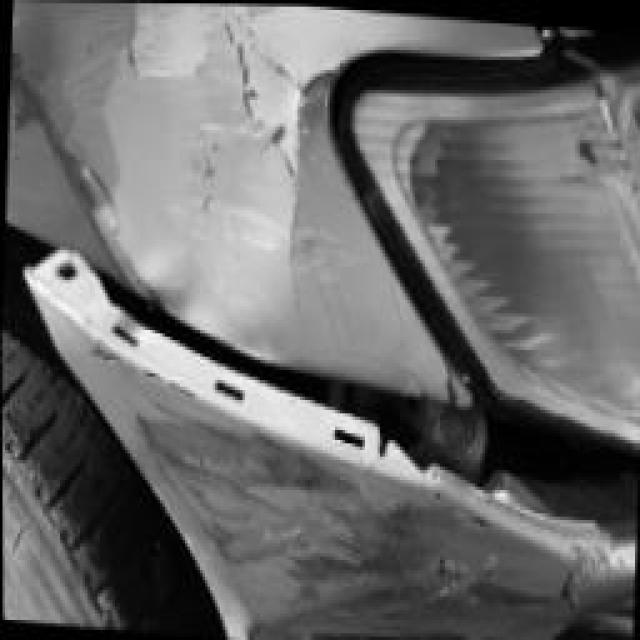Bumper: (5, 243, 639, 640)
Fender: (0, 0, 371, 316)
Light: (400, 47, 640, 417)
